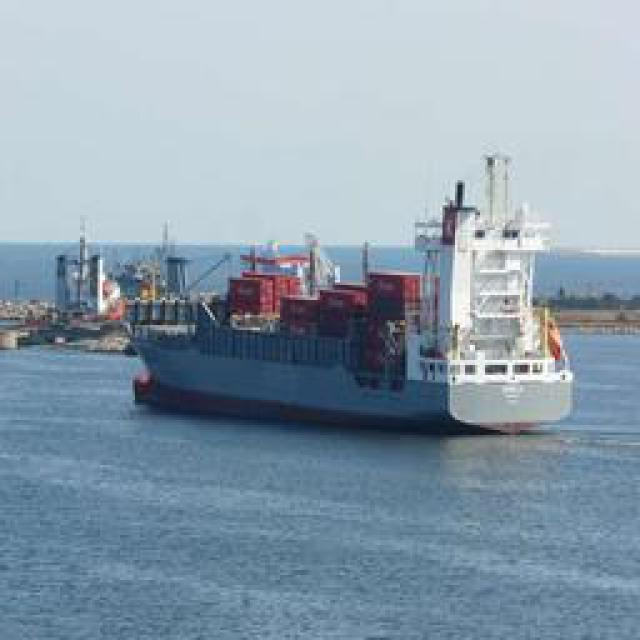Ship: (133, 166, 578, 434)
